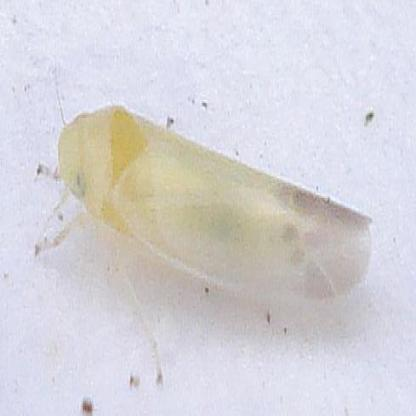green-leafhopper: (34, 105, 378, 386)
